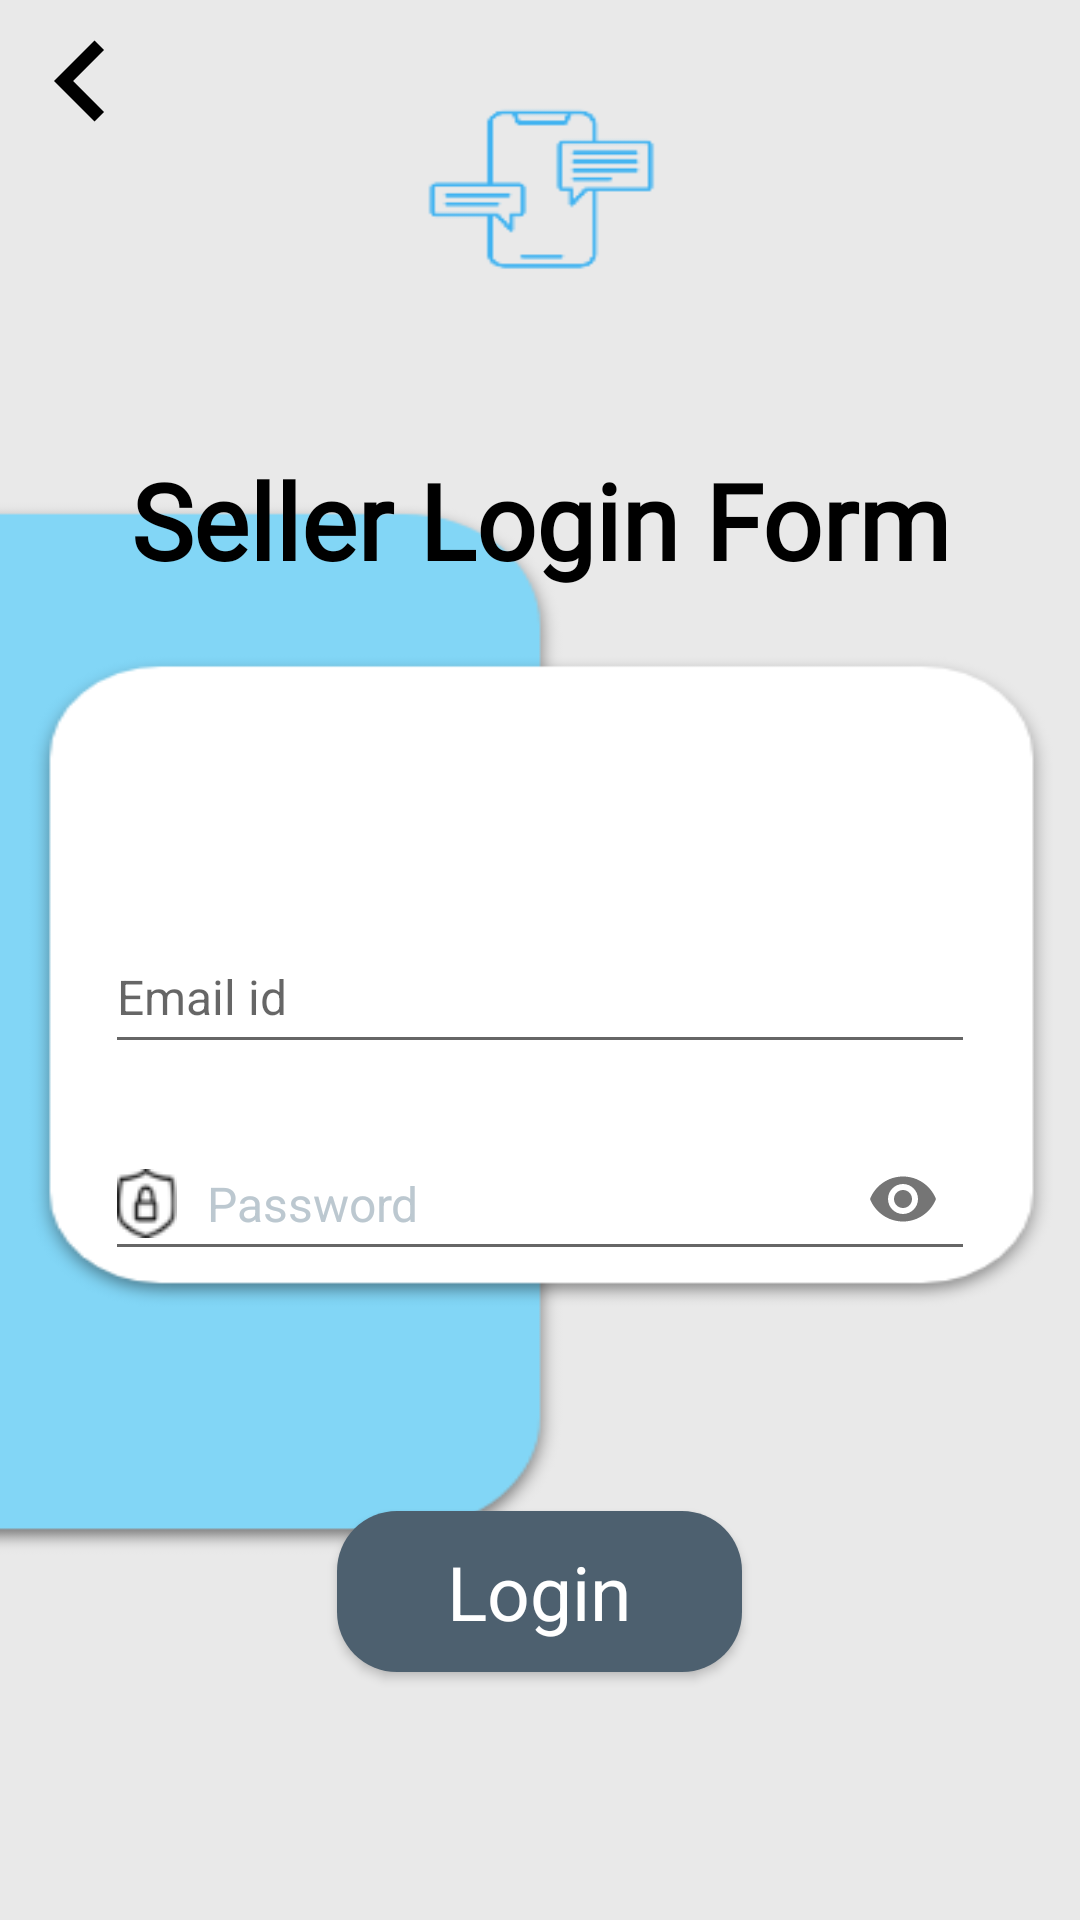

Screen size 1080w x 1920h. Icon name, then its center in pixels as [x,y]:
keyboard arrow left: [79,81]
